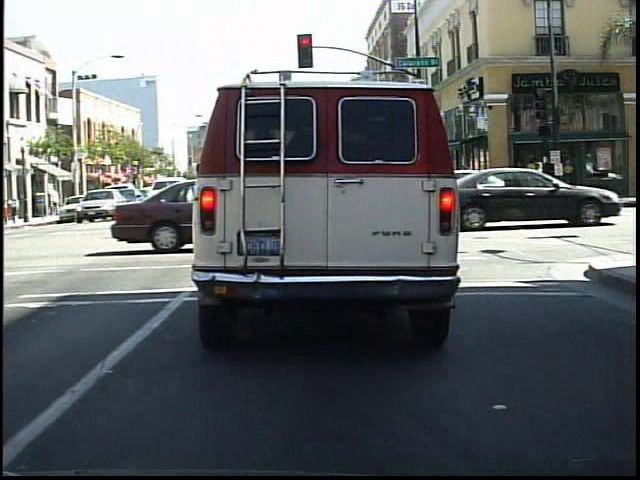person: (537, 153, 559, 205), (511, 159, 531, 205)
